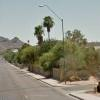Palm tree: (23, 7, 57, 56)
